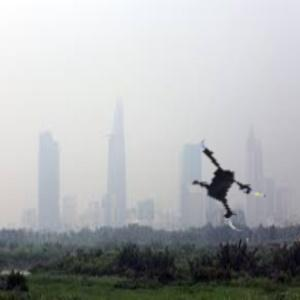drone: (180, 134, 283, 237)
